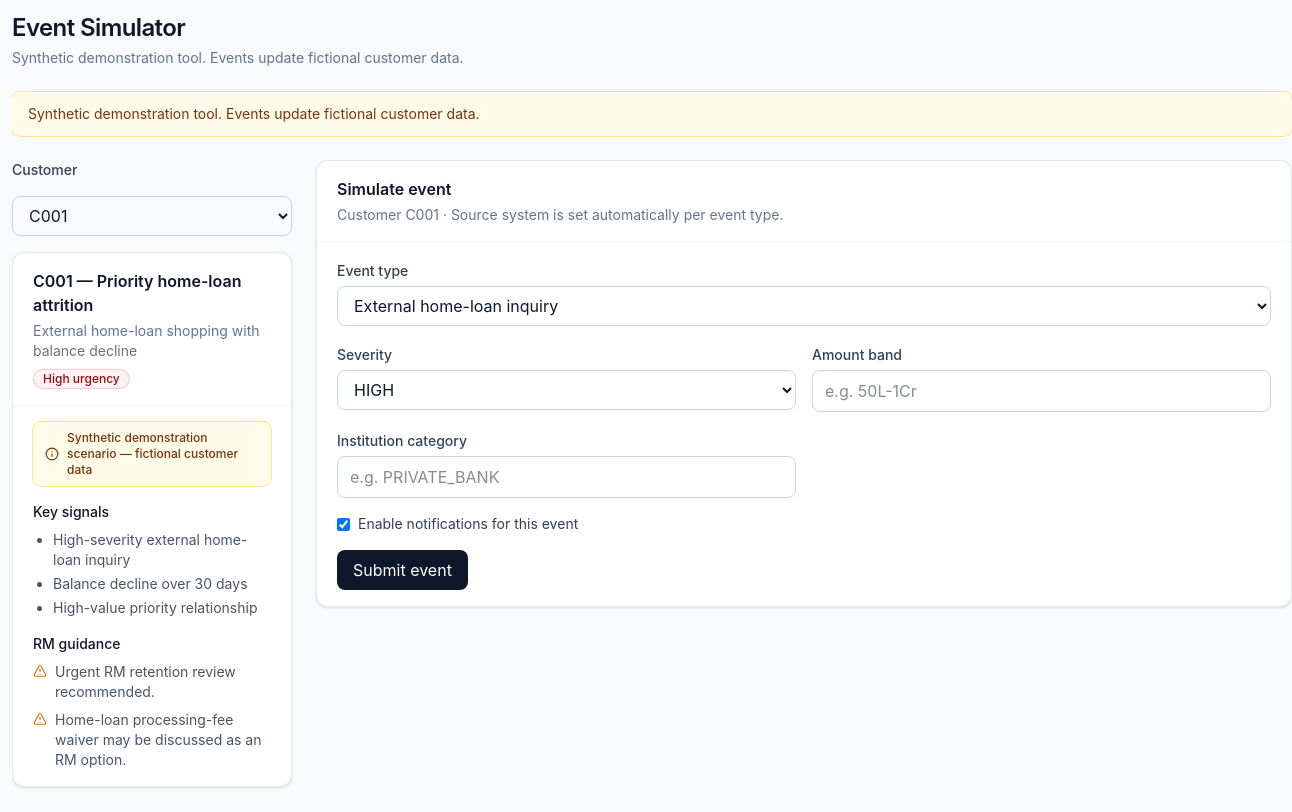
Scenario: Event simulator › renders dynamic fields for selected event type
Select "Large external transfer" in the dropdown labelled "Event type" at coordinates (804, 306), box [337,286,1271,326]
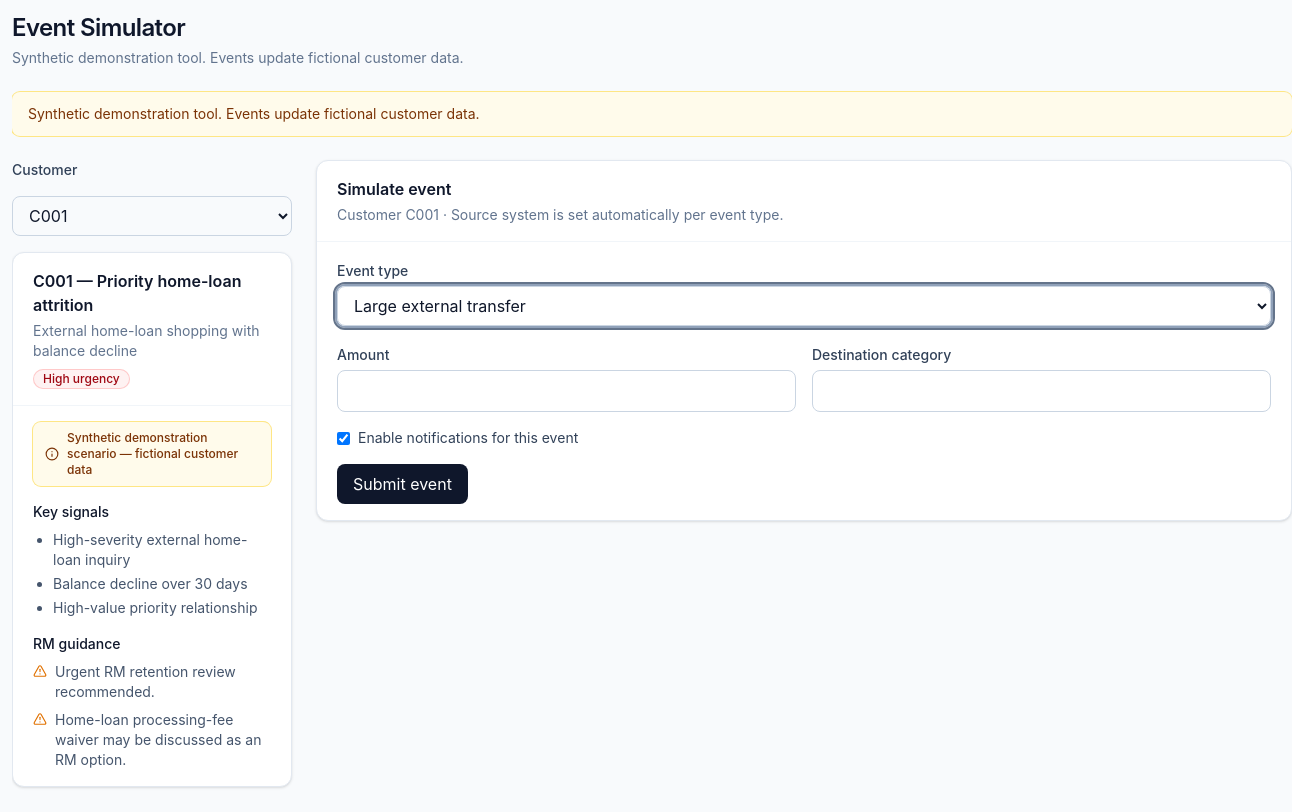
Now the number field labelled "Amount" is shown, box [337,370,796,412]
